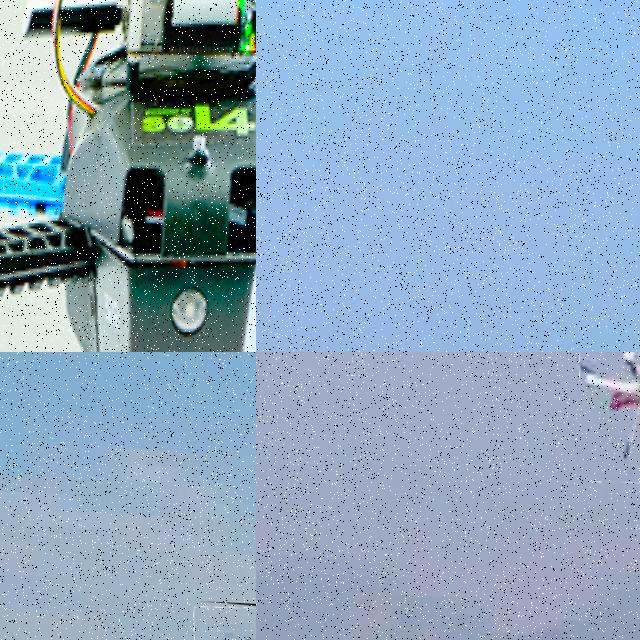drone: (0, 0, 256, 352), (574, 352, 640, 484)
